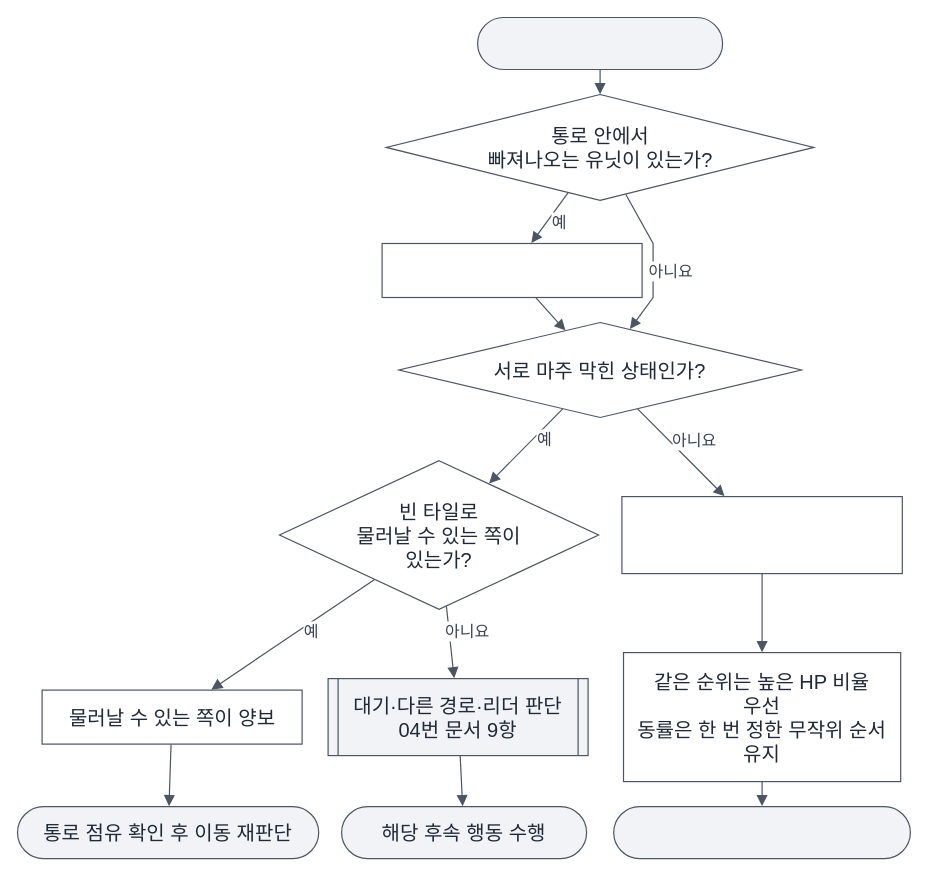
This 929x877 diagram has some shape labels left out. Here are the shapes that lost their labels. From the top down, the centre of each, then its label:
At [599,43]: "좁은 통로 진입 판단".
At [511,270]: "해당 유닛의 이탈 먼저 처리".
At [761,535]: "전방 근접 → 근접 지원 → 원거리 공격 → 원거리 지원".
At [761,832]: "정한 순서대로 통과 조건 확인".
